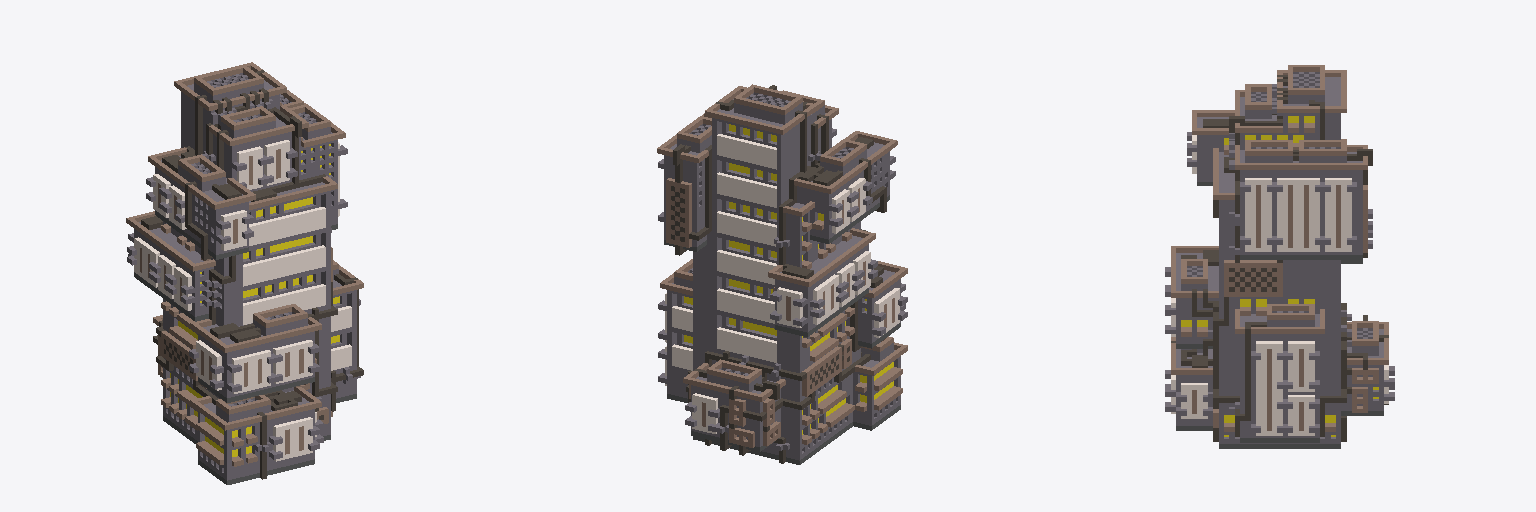
3 renders of one model, left to right at view 1: azimuth 30°, elevation 25°; view 2: azimuth 150°, elevation 25°; view 3: azimuth 270°, elevation 25°, orthographic.
Parts seen in each view (by area): view 1: object 1; view 2: object 1; view 3: object 1.
Boxes of the visible parts, box(x1,y1,x2,y2) form: object 1: box(126, 62, 363, 484); object 1: box(657, 84, 907, 464); object 1: box(1165, 65, 1394, 448).
Bounding box in the file's own units: 3.9 × 7.1 × 4.3.
Materials: 1 (1 with a texture image).